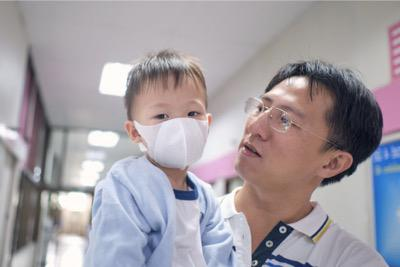with_mask: (132, 96, 208, 171)
without_mask: (233, 92, 319, 190)
